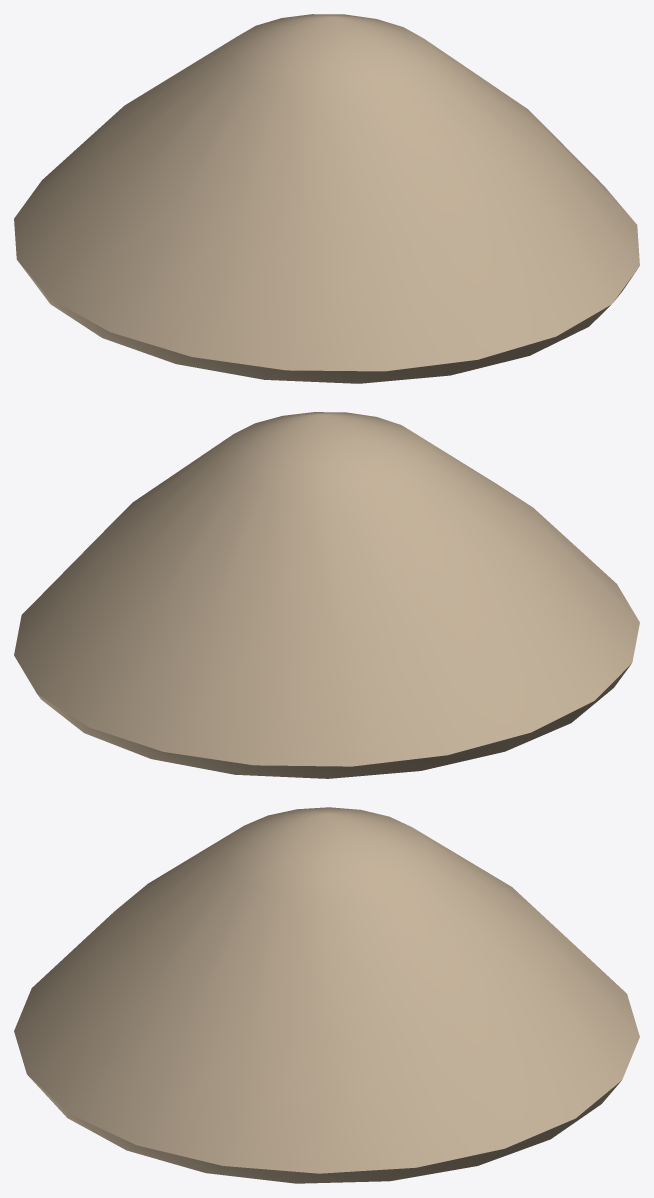
File: propeller_cover9.fbx
The picture shows the model from 3 angles, top to bottom: view 1: azimuth 30°, elevation 25°; view 2: azimuth 150°, elevation 25°; view 3: azimuth 270°, elevation 25°; orthographic projection.
Visible parts, largest first — view 1: polySurface26; view 2: polySurface26; view 3: polySurface26.
Part boxes in pixels (x1,y1,x2,y2): polySurface26: (14, 14, 639, 383); polySurface26: (14, 412, 639, 778); polySurface26: (14, 807, 639, 1183).
Size of the model in its own units: 0.6036 by 0.2612 by 0.6038.
